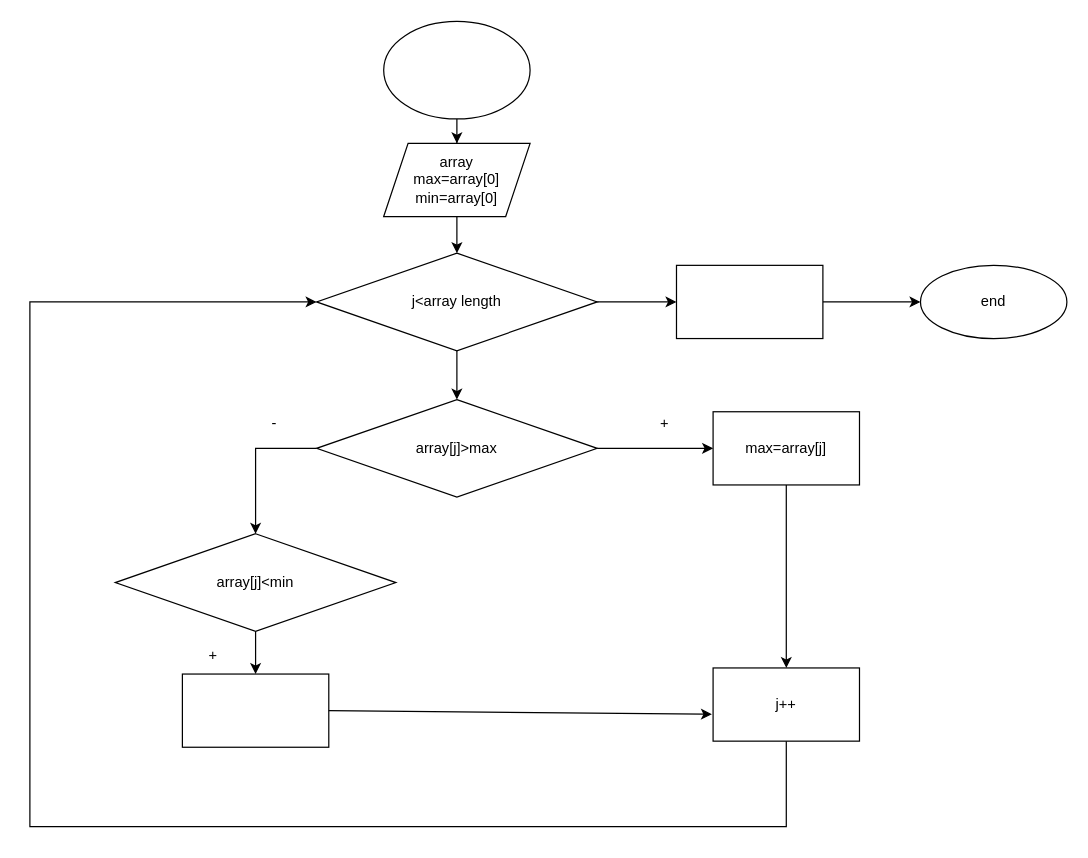
This 1088x858 diagram has some shape labels left out. The shapes that lost their labels are listed below. From the top down, each one's box as (x1, y1, x2, y2) in pixels, then its label:
(382, 20, 530, 119): start
(675, 264, 823, 339): max-min
(181, 673, 329, 747): min=array[j]
